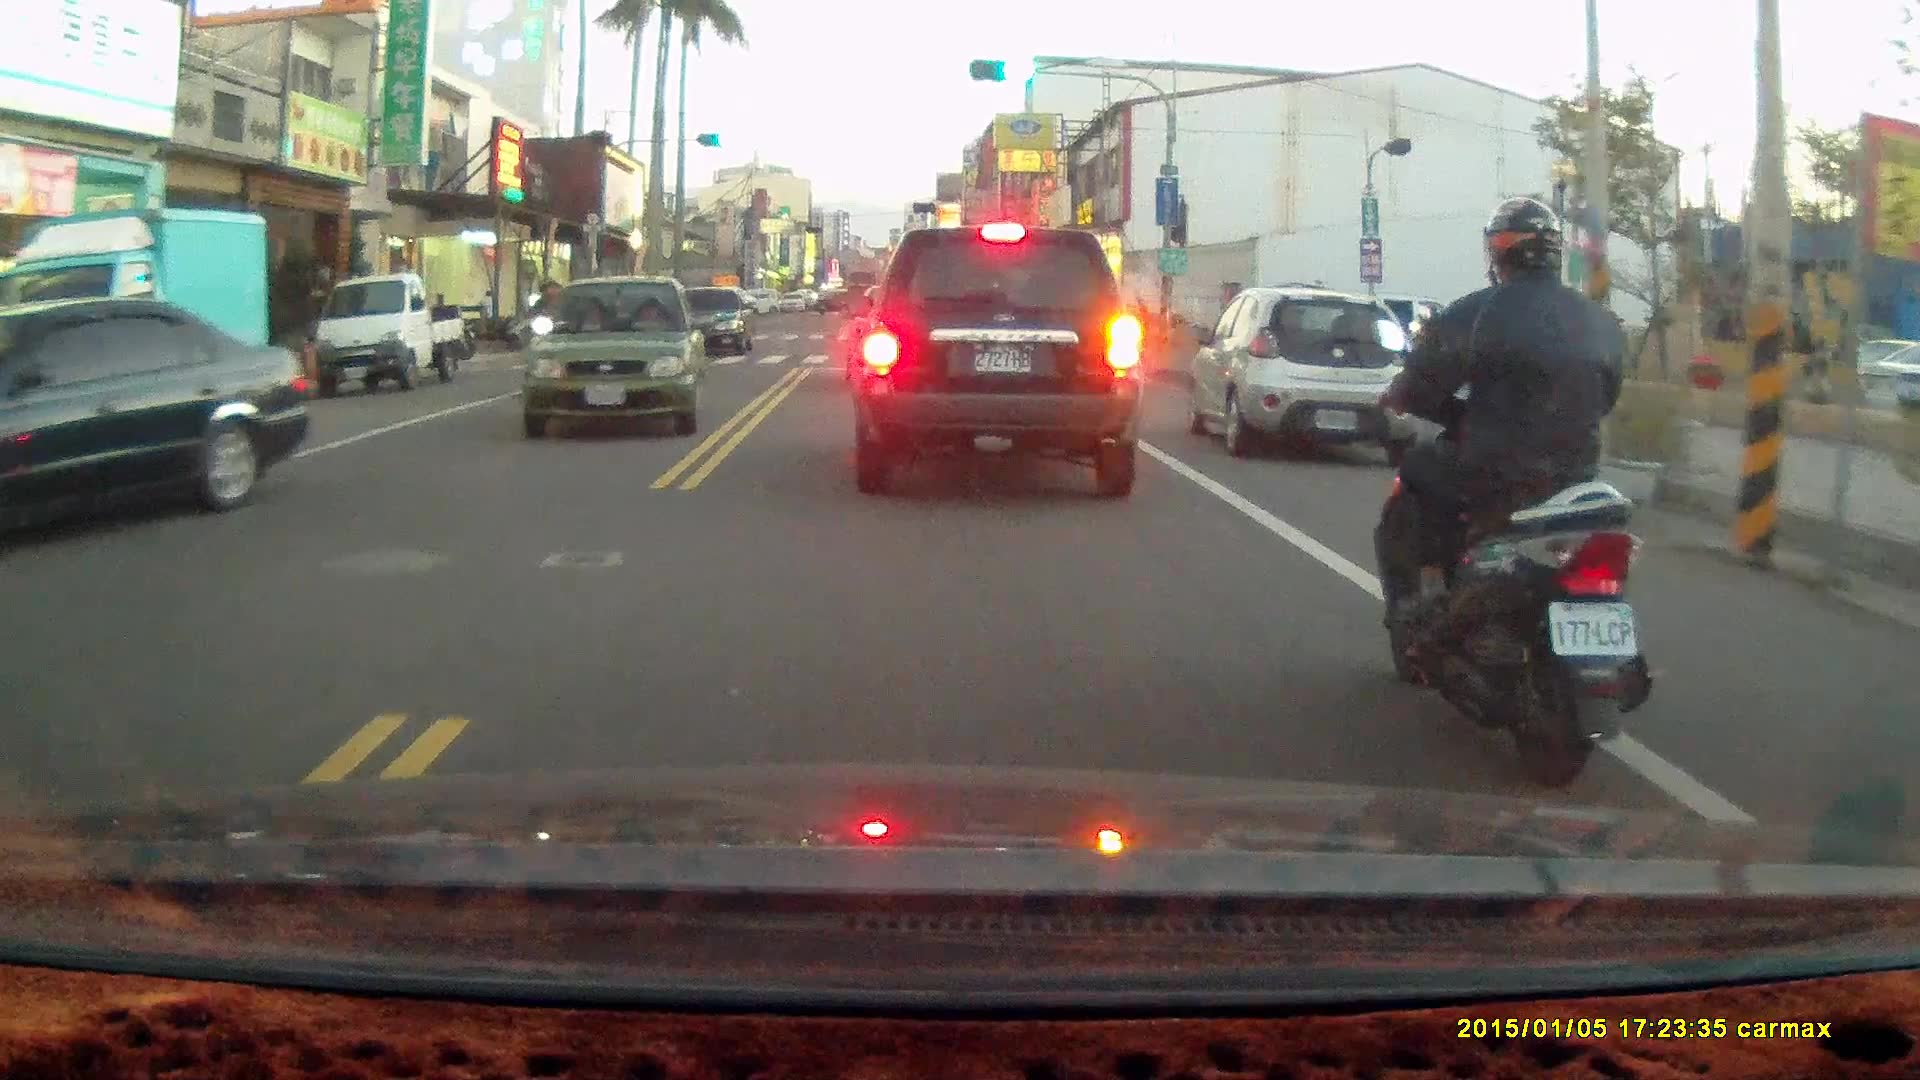rider: (1368, 195, 1652, 791), (516, 279, 567, 369)
vehicle: (1, 294, 317, 560), (851, 222, 1145, 498), (19, 203, 271, 420), (1188, 286, 1428, 460), (519, 270, 707, 435), (306, 268, 466, 393)
